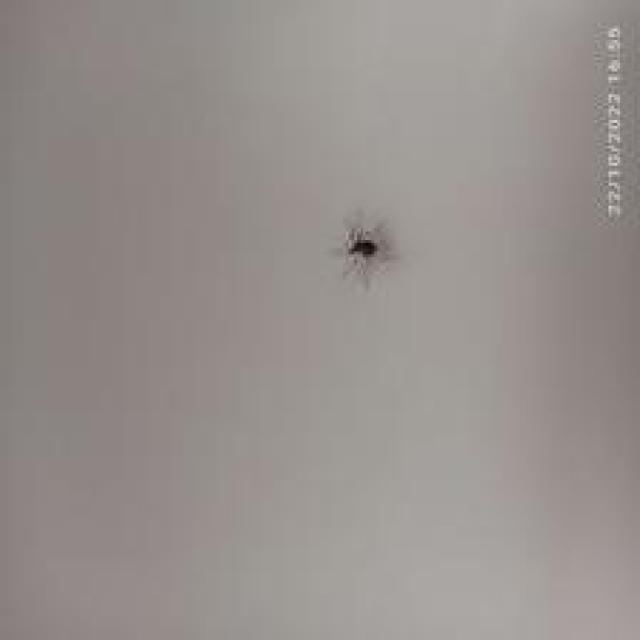Aedes albopictus: (334, 210, 397, 290)
